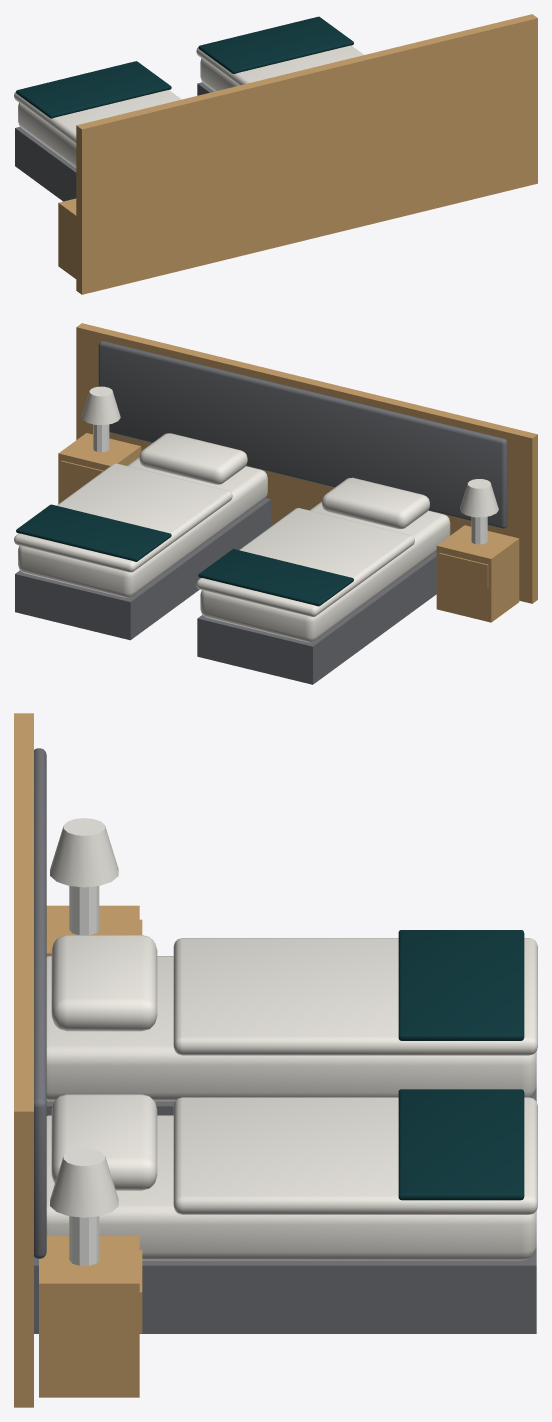
The model's file is hospitality.hotel.bed_twin.glb.
The picture shows the model from 3 angles, top to bottom: view 1: azimuth 30°, elevation 25°; view 2: azimuth 150°, elevation 25°; view 3: azimuth 270°, elevation 25°; orthographic projection. The views are drawn at different scales.
Parts seen in each view (by area): view 1: bed__glulam, bed__velvet_teal, bed__fabric_white, bed__fabric_grey, bedside__glulam; view 2: bed__fabric_grey, bed__fabric_white, bed__glulam, bedside__glulam, bed__velvet_teal, bedside__fabric_white, bedside__ceramic; view 3: bed__fabric_white, bed__fabric_grey, bed__velvet_teal, bedside__glulam, bed__glulam, bedside__fabric_white, bedside__ceramic.
Boxes of the visible parts, x1,y1,x2,y2 form: bed__glulam: [76, 14, 537, 294]; bed__velvet_teal: [16, 16, 353, 118]; bed__fabric_white: [14, 45, 363, 167]; bed__fabric_grey: [15, 82, 214, 201]; bedside__glulam: [58, 198, 76, 278]; bed__fabric_grey: [15, 341, 507, 684]; bed__fabric_white: [14, 433, 450, 642]; bed__glulam: [76, 323, 537, 603]; bedside__glulam: [58, 433, 519, 622]; bed__velvet_teal: [16, 504, 353, 606]; bedside__fabric_white: [81, 386, 498, 517]; bedside__ceramic: [93, 424, 487, 544]; bed__fabric_white: [46, 935, 537, 1260]; bed__fabric_grey: [34, 748, 536, 1333]; bed__velvet_teal: [398, 930, 524, 1200]; bedside__glulam: [39, 905, 142, 1397]; bed__glulam: [14, 713, 33, 1407]; bedside__fabric_white: [50, 818, 118, 1217]; bedside__ceramic: [69, 886, 99, 1265].
Bounding box in the file's own units: 3.75 × 1.3 × 2.08.
